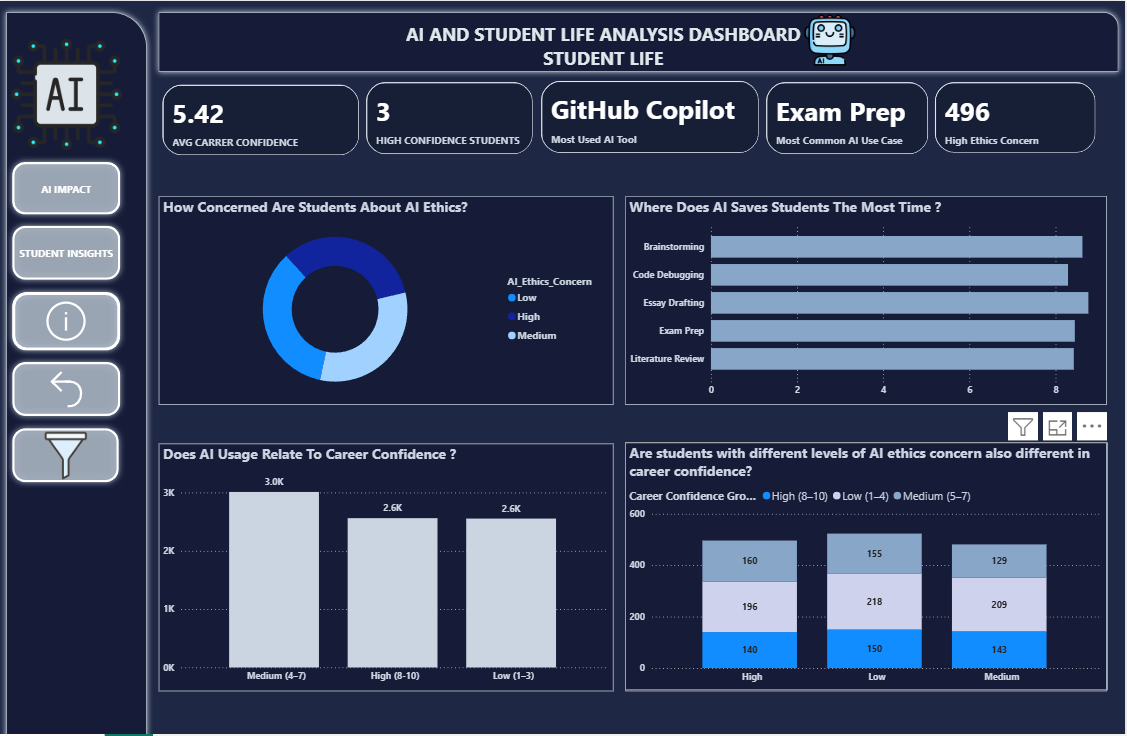

The page's visual inventory and layout, read from the dashboard file:
{"tool":"powerbi","page":{"name":"STUDENT LIFE","canvas":[1500,1000],"ordinal":1},"visuals":[{"type":"shape","box":[0,6,204,994],"z":0},{"type":"shape","box":[204,6,1296,96],"z":1000},{"type":"textbox","box":[144,24,1322,120],"z":2000},{"type":"cardVisual","fields":{"Data":["DATA.AVERAGE CARRER CONFIDENCE"]},"box":[212,106,272,104],"z":3000},{"type":"cardVisual","fields":{"Data":["DATA.Most Common AI Use Case"]},"box":[1016,104,226,106],"z":4000},{"type":"cardVisual","fields":{"Data":["DATA.Most Used AI Tool"]},"box":[716,102,300,106],"z":5000},{"type":"cardVisual","fields":{"Data":["DATA.High Ethics Concern"]},"box":[1242,104,224,104],"z":6000},{"type":"cardVisual","fields":{"Data":["DATA.HIGH CONFIDENCE STUDENTS"]},"box":[484,104,232,106],"z":7000},{"type":"donutChart","title":"How Concerned Are Students About AI Ethics?","fields":{"Category":["DATA.AI_Ethics_Concern"],"Y":["DATA.TOTAL STUDENTS"]},"box":[212,260,606,278],"z":8000},{"type":"columnChart","title":"Does AI Usage Relate To Career Confidence ?","fields":{"Category":["DATA.AI Usage Group"],"Y":["Sum(DATA.Career_Confidence_Score)"]},"box":[212,590,606,330],"z":9000},{"type":"actionButton","box":[8,206,160,86],"z":10000},{"type":"actionButton","box":[8,292,160,88],"z":11000},{"type":"actionButton","box":[8,380,160,94],"z":12000},{"type":"actionButton","box":[8,474,160,88],"z":13000},{"type":"image","box":[890,14,432,78],"z":14000},{"type":"image","box":[10,18,158,212],"z":15000},{"type":"actionButton","title":"Filters","box":[8,562,158,88],"z":15001},{"type":"image","box":[24,564,128,86],"z":15002},{"type":"barChart","title":"Where Does AI Saves Students The Most Time ?","fields":{"Category":["DATA.Main_Usage_Case"],"Y":["DATA.AVG TIME SAVEdD2"]},"box":[834,260,642,278],"z":15013},{"type":"columnChart","title":"Are students with different levels of AI ethics concern also different in career confidence?","fields":{"Category":["DATA.AI_Ethics_Concern"],"Y":["DATA.TOTAL STUDENTS"],"Series":["DATA.Career Confidence Group"]},"box":[834,588,642,332],"z":15014}]}

Visuals, with their boxes on the page's 1500x1000 design canvas (x1, y1, x2, y2). These are canvas units, not pixel positions in the 1127x736 screenshot, which may show the page scaled, cropped or inside an application window:
shape: [0,6,204,1000]
shape: [204,6,1500,102]
textbox: [144,24,1466,144]
cardVisual - DATA.AVERAGE CARRER CONFIDENCE: [212,106,484,210]
cardVisual - DATA.Most Common AI Use Case: [1016,104,1242,210]
cardVisual - DATA.Most Used AI Tool: [716,102,1016,208]
cardVisual - DATA.High Ethics Concern: [1242,104,1466,208]
cardVisual - DATA.HIGH CONFIDENCE STUDENTS: [484,104,716,210]
"How Concerned Are Students About AI Ethics?" donutChart: [212,260,818,538]
"Does AI Usage Relate To Career Confidence ?" columnChart: [212,590,818,920]
actionButton: [8,206,168,292]
actionButton: [8,292,168,380]
actionButton: [8,380,168,474]
actionButton: [8,474,168,562]
image: [890,14,1322,92]
image: [10,18,168,230]
"Filters" actionButton: [8,562,166,650]
image: [24,564,152,650]
"Where Does AI Saves Students The Most Time ?" barChart: [834,260,1476,538]
"Are students with different levels of AI ethics concern also different in career confidence?" columnChart: [834,588,1476,920]
